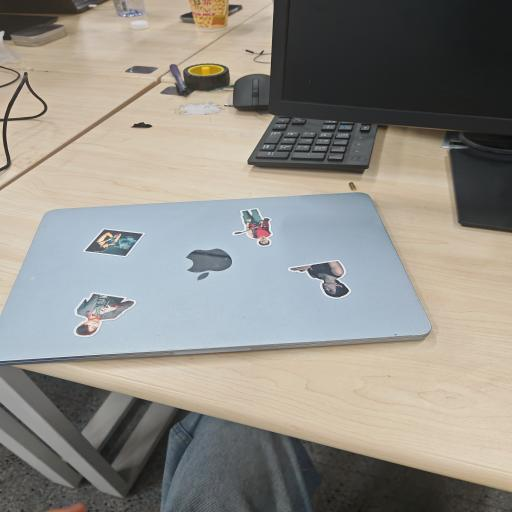laptop: (0, 192, 430, 364), (0, 0, 106, 14)
mouse: (233, 74, 270, 112)
